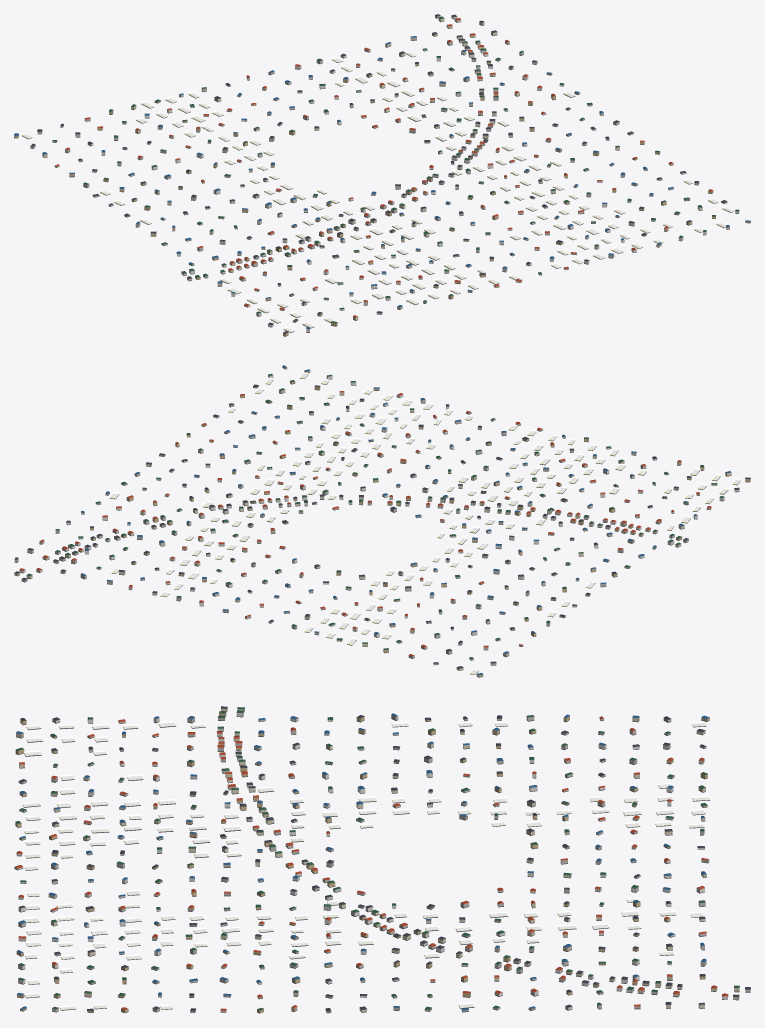
The model's file is buildings_T_E03_S06.glb.
The picture shows the model from 3 angles, top to bottom: view 1: azimuth 30°, elevation 25°; view 2: azimuth 150°, elevation 25°; view 3: azimuth 270°, elevation 25°; orthographic projection. The views are drawn at different scales.
Visible parts, largest first — view 1: T_E03_S06_slope_seating_foundations, T_E03_S06_roofs_agri_greenhouse_arch, T_E03_S06_walls_wall_modern_warm_white, T_E03_S06_walls_wall_pastel_sand_gray, T_E03_S06_walls_wall_french_ochre_villa, T_E03_S06_walls_wall_dalat_cream_stucco, T_E03_S06_roofs_roof_slate_French_villa_hip, T_E03_S06_roofs_roof_terracotta_gable, T_E03_S06_roofs_roof_pine_green_hip, T_E03_S06_roofs_roof_highland_blue_gable; view 2: T_E03_S06_slope_seating_foundations, T_E03_S06_roofs_agri_greenhouse_arch, T_E03_S06_walls_wall_pastel_sand_gray, T_E03_S06_walls_wall_modern_warm_white, T_E03_S06_walls_wall_dalat_cream_stucco, T_E03_S06_walls_wall_french_ochre_villa, T_E03_S06_roofs_roof_slate_French_villa_hip, T_E03_S06_roofs_roof_terracotta_gable, T_E03_S06_roofs_roof_pine_green_hip, T_E03_S06_roofs_roof_highland_blue_gable; view 3: T_E03_S06_slope_seating_foundations, T_E03_S06_roofs_agri_greenhouse_arch, T_E03_S06_walls_wall_french_ochre_villa, T_E03_S06_walls_wall_modern_warm_white, T_E03_S06_walls_wall_pastel_sand_gray, T_E03_S06_walls_wall_dalat_cream_stucco, T_E03_S06_roofs_roof_slate_French_villa_hip, T_E03_S06_roofs_roof_terracotta_gable, T_E03_S06_roofs_roof_pine_green_hip, T_E03_S06_roofs_roof_highland_blue_gable.
Boxes of the visible parts, left/top/right/bottom form: T_E03_S06_slope_seating_foundations: left=14, top=17, right=750, bottom=336; T_E03_S06_roofs_agri_greenhouse_arch: left=21, top=51, right=734, bottom=332; T_E03_S06_walls_wall_modern_warm_white: left=60, top=19, right=738, bottom=326; T_E03_S06_walls_wall_pastel_sand_gray: left=30, top=15, right=699, bottom=305; T_E03_S06_walls_wall_french_ochre_villa: left=14, top=33, right=750, bottom=336; T_E03_S06_walls_wall_dalat_cream_stucco: left=37, top=16, right=702, bottom=332; T_E03_S06_roofs_roof_slate_French_villa_hip: left=30, top=14, right=727, bottom=333; T_E03_S06_roofs_roof_terracotta_gable: left=55, top=18, right=712, bottom=317; T_E03_S06_roofs_roof_pine_green_hip: left=52, top=16, right=739, bottom=323; T_E03_S06_roofs_roof_highland_blue_gable: left=14, top=36, right=750, bottom=329; T_E03_S06_slope_seating_foundations: left=14, top=367, right=749, bottom=677; T_E03_S06_roofs_agri_greenhouse_arch: left=109, top=372, right=740, bottom=674; T_E03_S06_walls_wall_pastel_sand_gray: left=21, top=398, right=684, bottom=665; T_E03_S06_walls_wall_modern_warm_white: left=19, top=375, right=739, bottom=664; T_E03_S06_walls_wall_dalat_cream_stucco: left=14, top=389, right=731, bottom=670; T_E03_S06_walls_wall_french_ochre_villa: left=60, top=366, right=750, bottom=677; T_E03_S06_roofs_roof_slate_French_villa_hip: left=14, top=384, right=750, bottom=668; T_E03_S06_roofs_roof_terracotta_gable: left=19, top=391, right=711, bottom=656; T_E03_S06_roofs_roof_pine_green_hip: left=26, top=373, right=724, bottom=659; T_E03_S06_roofs_roof_highland_blue_gable: left=80, top=365, right=731, bottom=675; T_E03_S06_slope_seating_foundations: left=14, top=710, right=750, bottom=1013; T_E03_S06_roofs_agri_greenhouse_arch: left=22, top=721, right=710, bottom=1010; T_E03_S06_walls_wall_french_ochre_villa: left=15, top=713, right=709, bottom=1012; T_E03_S06_walls_wall_modern_warm_white: left=14, top=712, right=727, bottom=1012; T_E03_S06_walls_wall_pastel_sand_gray: left=18, top=715, right=750, bottom=1011; T_E03_S06_walls_wall_dalat_cream_stucco: left=16, top=708, right=739, bottom=1012; T_E03_S06_roofs_roof_slate_French_villa_hip: left=19, top=706, right=750, bottom=1011; T_E03_S06_roofs_roof_terracotta_gable: left=15, top=716, right=728, bottom=1010; T_E03_S06_roofs_roof_pine_green_hip: left=15, top=707, right=739, bottom=1010; T_E03_S06_roofs_roof_highland_blue_gable: left=16, top=713, right=709, bottom=1010.
Bounding box in the file's own units: 1801 × 31.85 × 1858.
